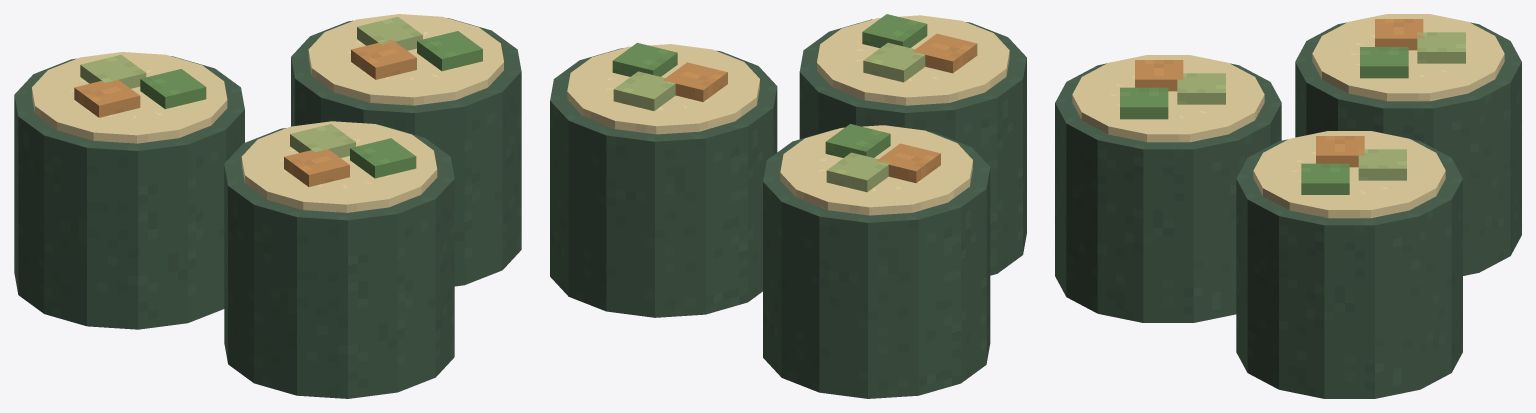
Rendered from sushi_veggyroll.glb.
The picture shows the model from 3 angles, left to right: view 1: azimuth 30°, elevation 25°; view 2: azimuth 150°, elevation 25°; view 3: azimuth 270°, elevation 25°; orthographic projection. The views are drawn at different scales.
Visible parts, largest first — view 1: block_green nori wrap (×3), block_compressed rice (×3), block_chopped vegetables (×9); view 2: block_green nori wrap (×3), block_compressed rice (×3), block_chopped vegetables (×9); view 3: block_green nori wrap (×3), block_compressed rice (×3), block_chopped vegetables (×9).
Boxes of the visible parts, bbox=[...] form: block_green nori wrap (×3): bbox=[14, 18, 521, 398]; block_compressed rice (×3): bbox=[32, 14, 503, 212]; block_chopped vegetables (×9): bbox=[74, 17, 482, 186]; block_green nori wrap (×3): bbox=[550, 19, 1026, 398]; block_compressed rice (×3): bbox=[567, 15, 1009, 215]; block_chopped vegetables (×9): bbox=[612, 14, 977, 192]; block_green nori wrap (×3): bbox=[1055, 22, 1521, 398]; block_compressed rice (×3): bbox=[1072, 14, 1504, 218]; block_chopped vegetables (×9): bbox=[1120, 19, 1465, 194].
Size of the model in its own units: 0.1203 by 0.0517 by 0.1129.
Materials: 1 (1 with a texture image).
